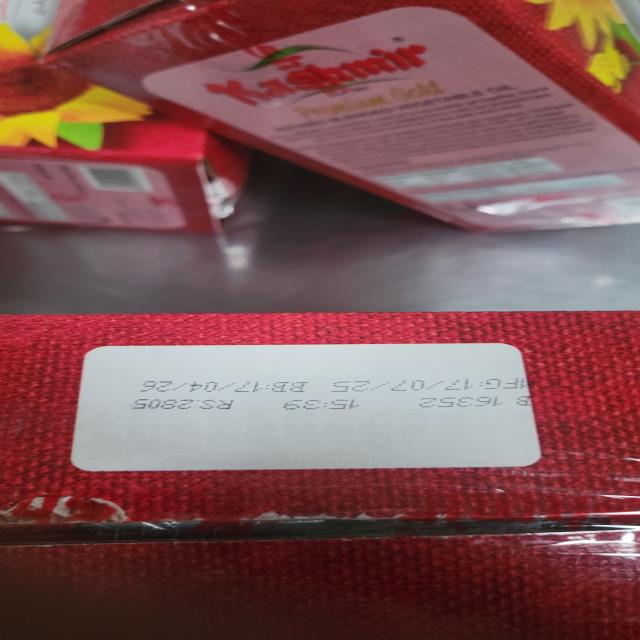BB: (140, 380, 312, 393)
Batch: (415, 394, 542, 408)
MFG: (334, 378, 528, 394)
RS: (132, 398, 238, 411)
TimeStamp: (280, 399, 360, 410)
